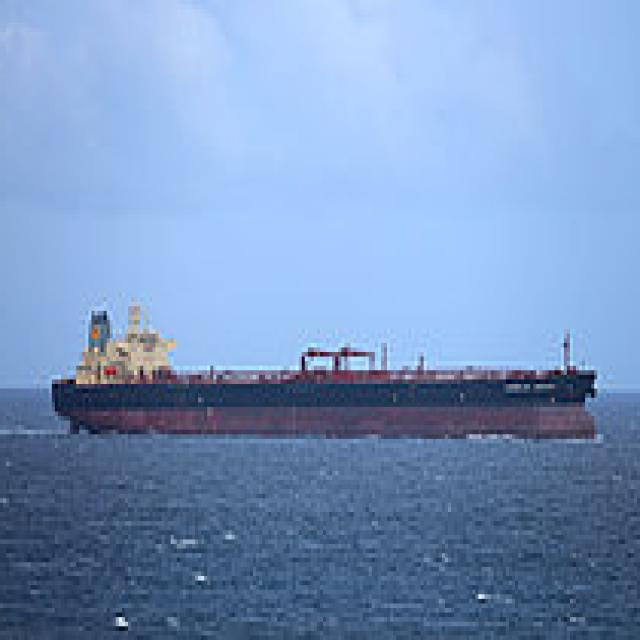Tanker: (49, 283, 606, 439)
